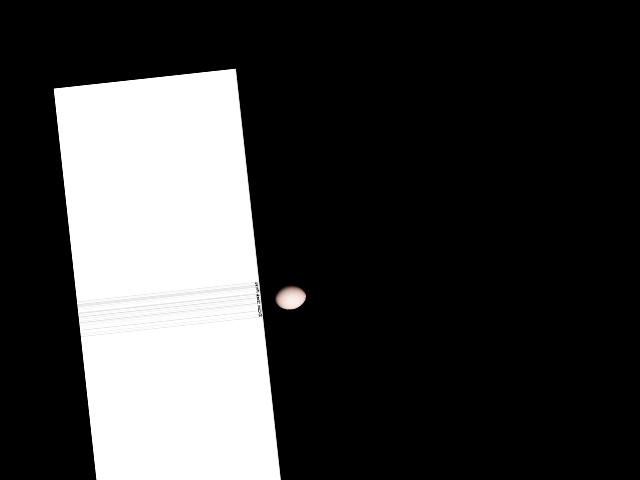egg: (272, 283, 307, 310)
